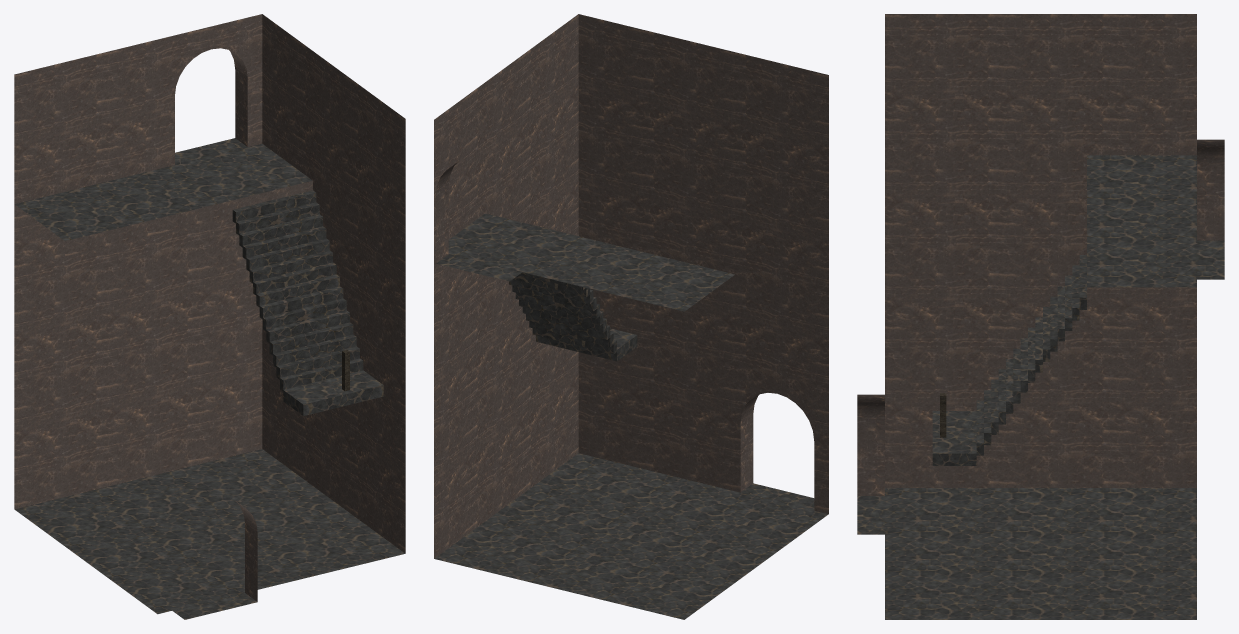
Rendered from broken-stair.a6a3441c.gltf.
The picture shows the model from 3 angles, left to right: view 1: azimuth 30°, elevation 25°; view 2: azimuth 150°, elevation 25°; view 3: azimuth 270°, elevation 25°; orthographic projection. The views are drawn at different scales.
Visible parts, largest first — view 1: broken-stair-mesh; view 2: broken-stair-mesh; view 3: broken-stair-mesh.
Part boxes in pixels (x1=…): broken-stair-mesh: x1=14, y1=14, x2=405, y2=619; broken-stair-mesh: x1=434, y1=14, x2=828, y2=619; broken-stair-mesh: x1=857, y1=14, x2=1224, y2=619.
Size of the model in its own units: 6.8 by 11.4 by 8.
Materials: 3 (3 with a texture image).
